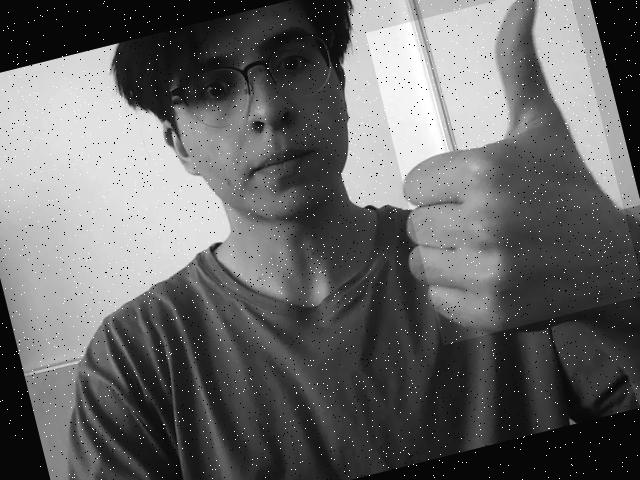good: (365, 0, 640, 345)
